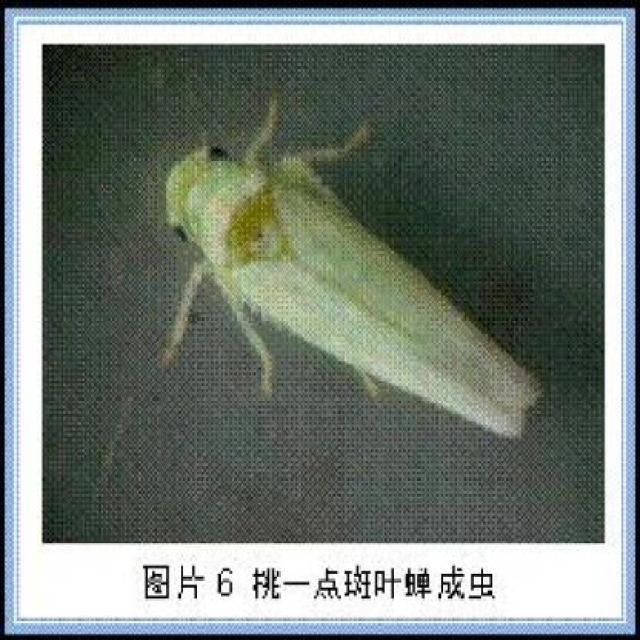green-leafhopper: (165, 142, 530, 442)
